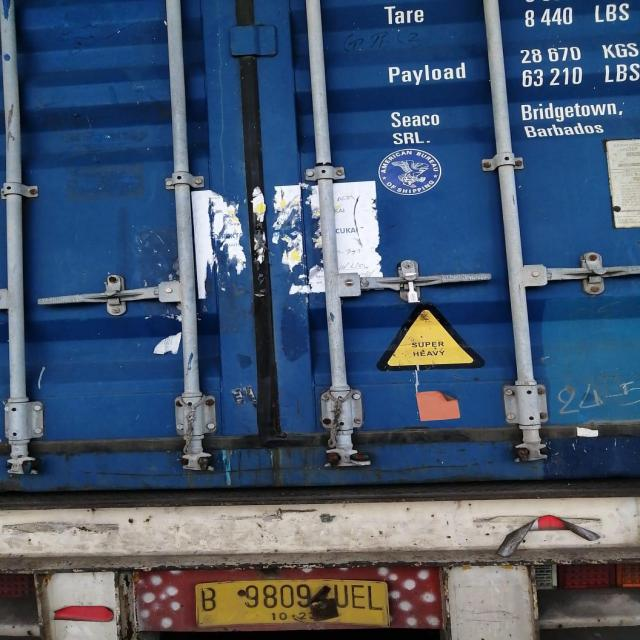seal: (401, 269, 422, 305)
